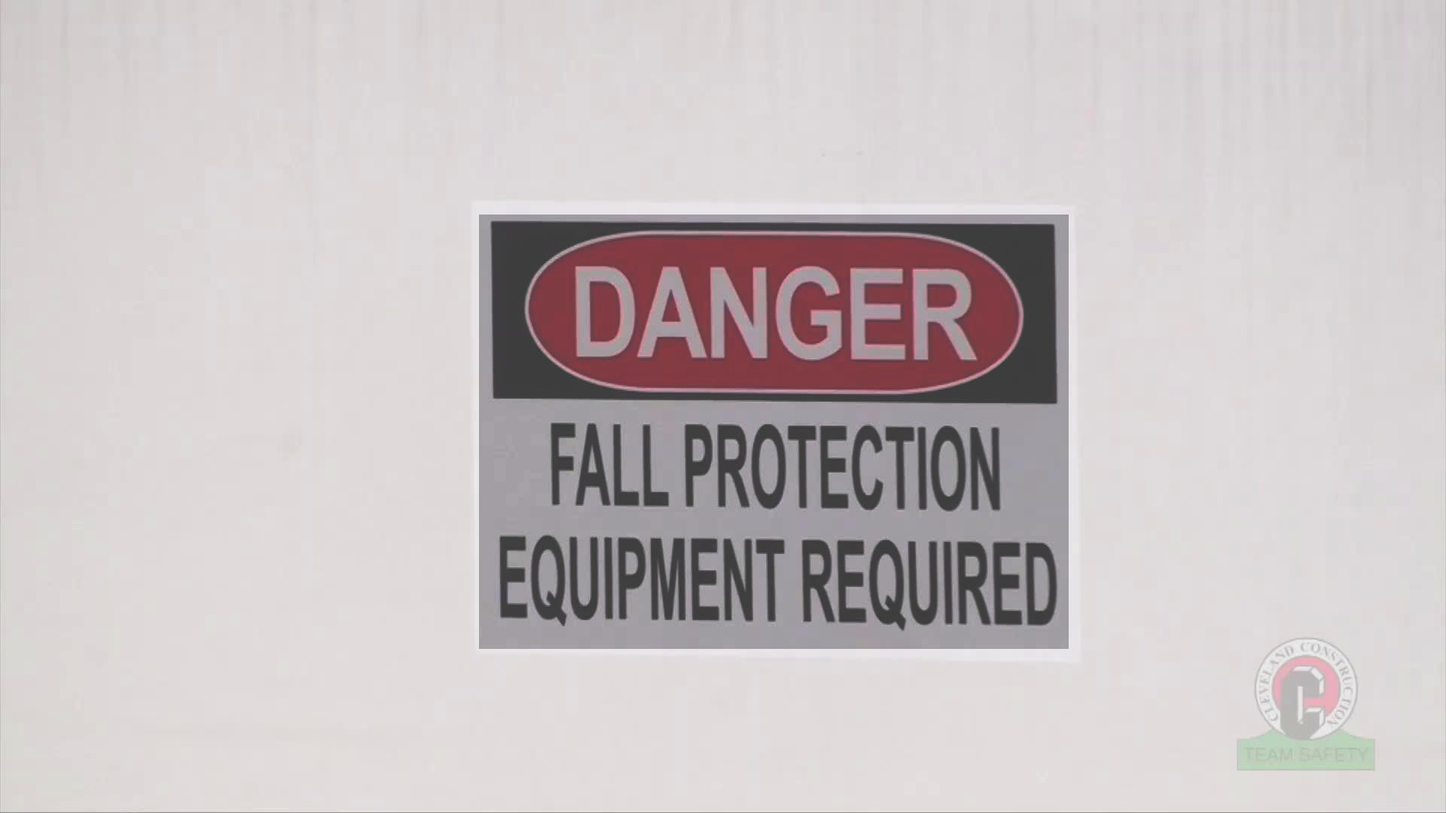safety_signage: (479, 215, 1069, 649)
